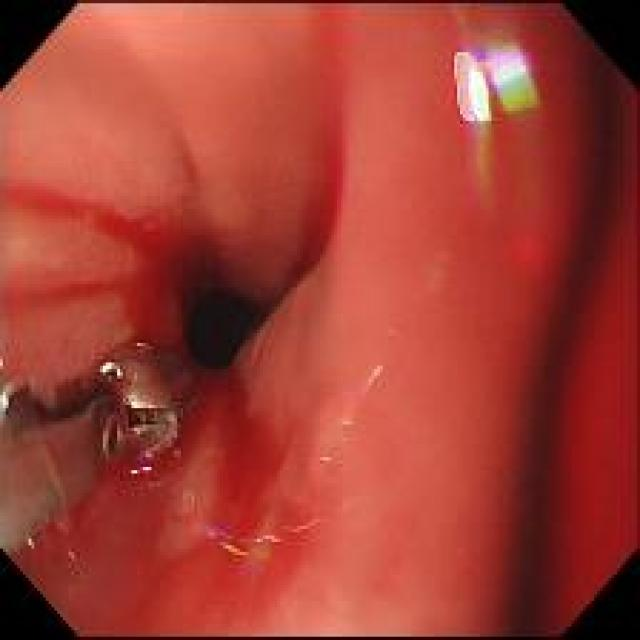bubbles: (173, 484, 197, 507), (316, 444, 338, 469), (335, 412, 356, 432)
color misalignment: (454, 43, 540, 126), (477, 127, 490, 196), (222, 544, 247, 556), (369, 366, 382, 389), (24, 536, 38, 555), (130, 466, 151, 476)
contrast: (176, 262, 273, 375)
instrument: (2, 345, 198, 552)
specularity: (100, 362, 124, 378), (128, 399, 155, 409), (1, 392, 9, 410)
